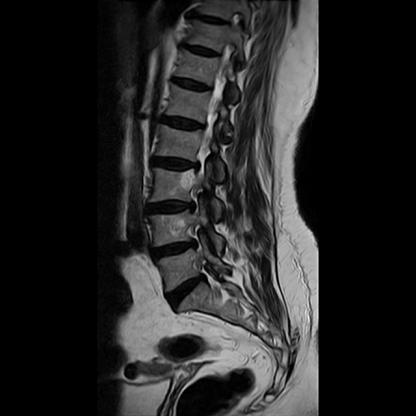Disc Bulgerotation: (138, 194, 200, 220), (146, 153, 207, 177), (145, 239, 207, 262)
